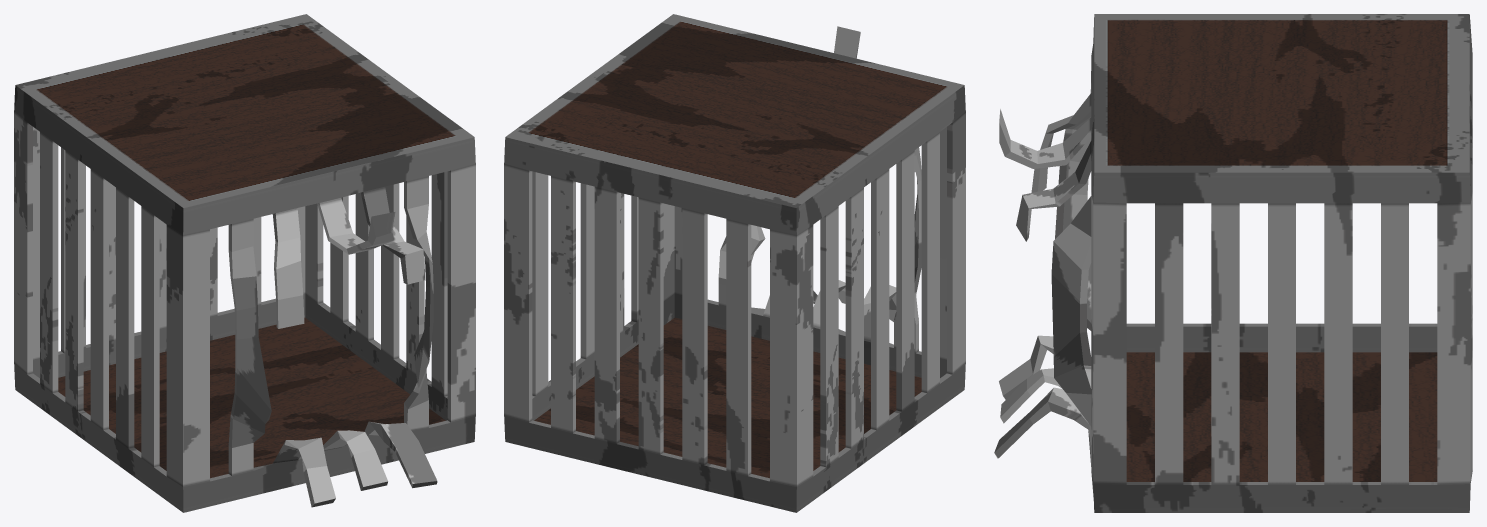
The model's file is Cage_broken01.fbx.
The picture shows the model from 3 angles, left to right: view 1: azimuth 30°, elevation 25°; view 2: azimuth 150°, elevation 25°; view 3: azimuth 270°, elevation 25°; orthographic projection. The views are drawn at different scales.
Visible parts, largest first — view 1: Cage_broken01; view 2: Cage_broken01; view 3: Cage_broken01.
Boxes of the visible parts, x1,y1,x2,y2 form: Cage_broken01: (14,14,475,512); Cage_broken01: (504,14,965,512); Cage_broken01: (994,14,1472,512).
Size of the model in its own units: 2.08 by 2.05 by 2.61.
2 materials, 2 textured.
